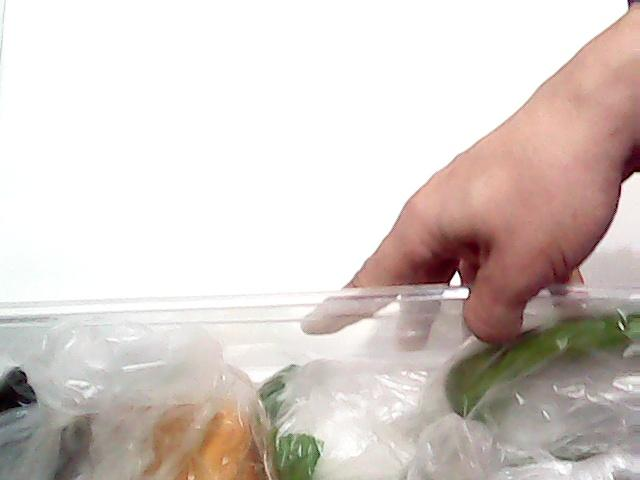grape: (0, 342, 102, 452)
lemon: (119, 370, 269, 480)
pepper: (412, 282, 640, 442)
radish: (256, 359, 443, 480)
